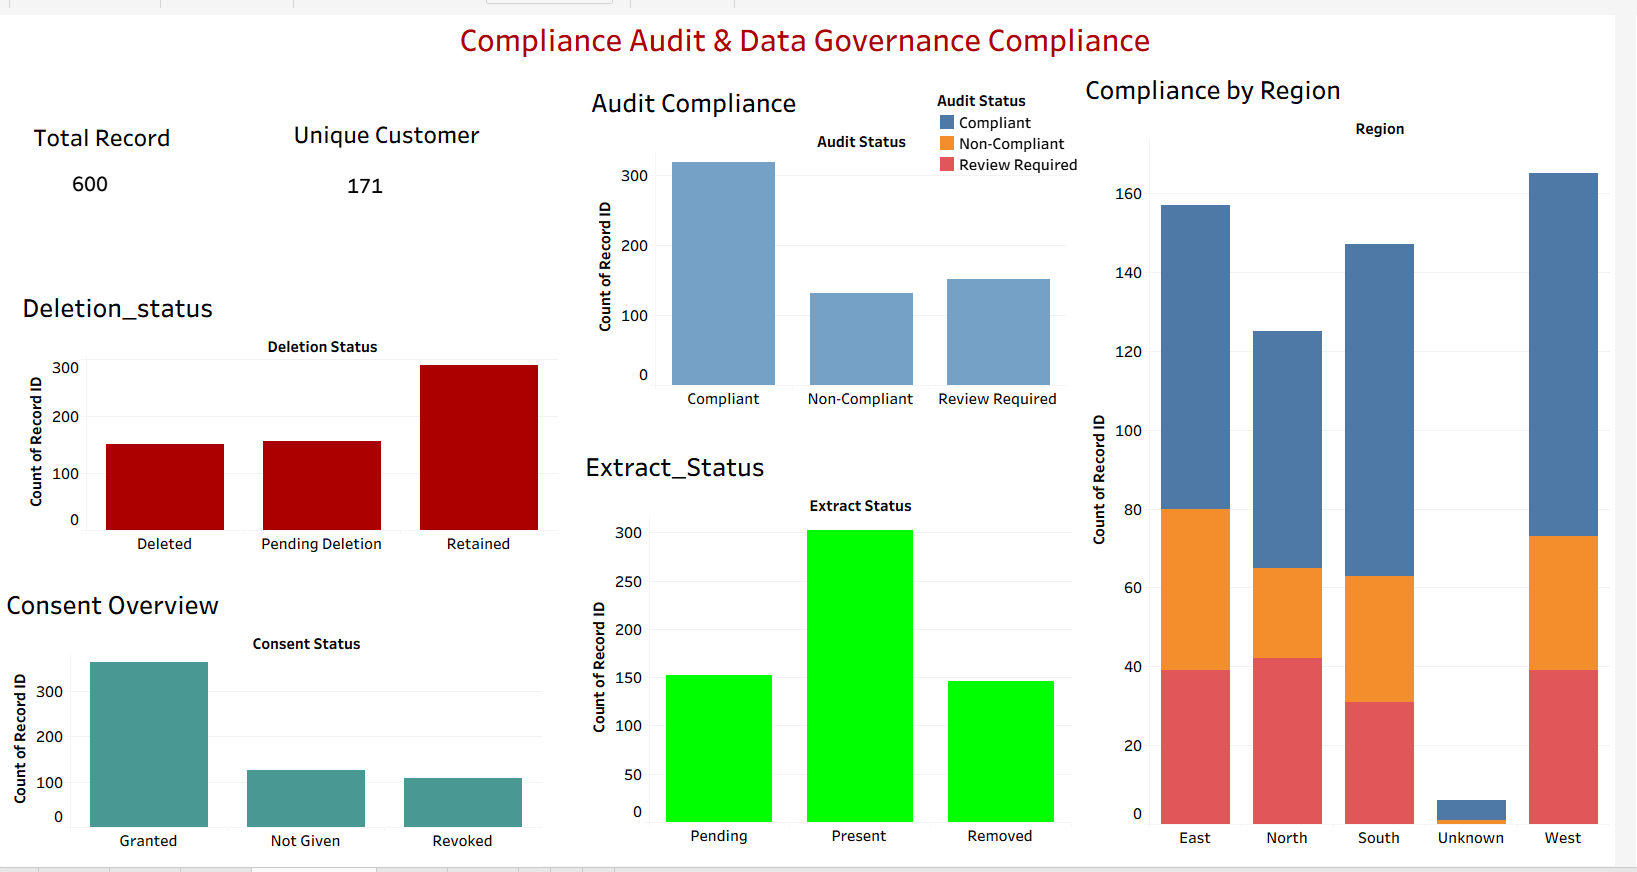

What the dashboard file says about the page in this screenshot:
{"tool":"tableau","page":{"name":"Dashboard 1","canvas":[1620,860],"ordinal":0},"visuals":[{"type":"title","box":[8,8,1604,49]},{"type":"worksheet","title":"Sheet 6","mark":"Automatic","rows":["Record_ID"],"cols":["Region"],"box":[1086,62,529,781]},{"type":"worksheet","title":"Sheet 5","mark":"Automatic","rows":["Record_ID"],"cols":["Audit_Status"],"box":[592,75,480,344]},{"type":"legend","title":"Sheet 6","param":"[federated.18l1rdw1kw36061epczzm0b24io3].[none:Audit_Status:nk]","box":[942,84,146,85]},{"type":"text","box":[295,112,194,32]},{"type":"text","box":[35,115,144,32]},{"type":"worksheet","title":"Sheet 7","mark":"Automatic","box":[57,164,92,68]},{"type":"worksheet","title":"Sheet 8","mark":"Automatic","box":[332,166,83,57]},{"type":"worksheet","title":"Sheet 3","mark":"Automatic","rows":["Record_ID"],"cols":["Deletion_Status"],"box":[23,280,540,284]},{"type":"worksheet","title":"Sheet 4","mark":"Automatic","rows":["Record_ID"],"cols":["Extract_Status"],"box":[586,439,491,402]},{"type":"worksheet","title":"Sheet 1","mark":"Automatic","rows":["Record_ID"],"cols":["Consent_Status"],"box":[7,577,540,284]}]}

Visuals, with their boxes in screenshot pixels (x1, y1, x2, y2), scaled from the page's 1620x860 canvas onto the 1637x872 screenshot:
title: bbox(8, 8, 1629, 58)
"Sheet 6" worksheet: bbox(1097, 63, 1632, 855)
"Sheet 5" worksheet: bbox(598, 76, 1083, 425)
"Sheet 6" legend: bbox(952, 85, 1099, 171)
text: bbox(298, 114, 494, 146)
text: bbox(35, 117, 181, 149)
"Sheet 7" worksheet: bbox(58, 166, 151, 235)
"Sheet 8" worksheet: bbox(335, 168, 419, 226)
"Sheet 3" worksheet: bbox(23, 284, 569, 572)
"Sheet 4" worksheet: bbox(592, 445, 1088, 853)
"Sheet 1" worksheet: bbox(7, 585, 553, 871)
